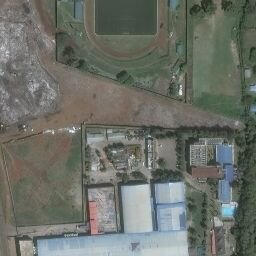tree: (201, 1, 217, 13), (189, 5, 203, 16), (116, 70, 128, 81), (63, 46, 75, 57), (221, 1, 233, 11), (124, 75, 134, 85), (77, 59, 87, 69), (230, 179, 239, 188), (188, 204, 197, 212), (158, 158, 165, 165)
